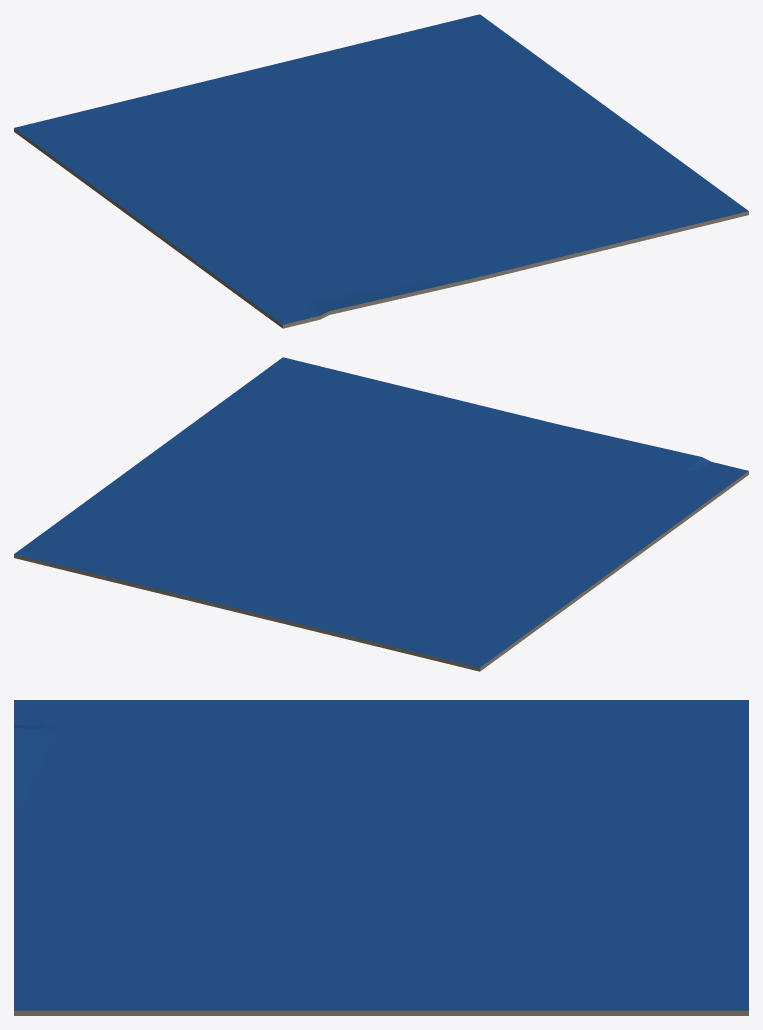
The model's file is parca_+4_+3-uzak.glb.
3 renders of one model, top to bottom at view 1: azimuth 30°, elevation 25°; view 2: azimuth 150°, elevation 25°; view 3: azimuth 270°, elevation 25°, orthographic. The views are drawn at different scales.
Visible parts, largest first — view 1: parca_+4_+3_arazi_uzak; view 2: parca_+4_+3_arazi_uzak; view 3: parca_+4_+3_arazi_uzak.
Boxes of the visible parts, x1=… form: parca_+4_+3_arazi_uzak: x1=14, y1=14, x2=748, y2=328; parca_+4_+3_arazi_uzak: x1=14, y1=357, x2=748, y2=671; parca_+4_+3_arazi_uzak: x1=14, y1=700, x2=748, y2=1015.
Bounding box in the file's own units: 1000 × 12.94 × 1000.
